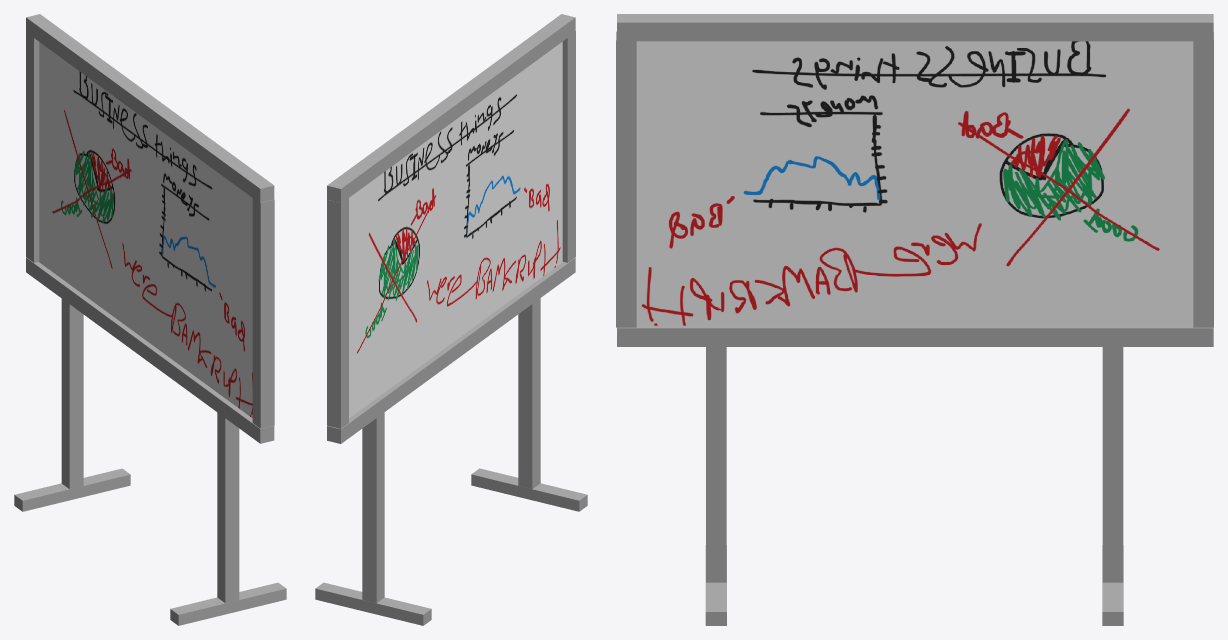
File: whiteboard.glb
The picture shows the model from 3 angles, left to right: view 1: azimuth 30°, elevation 25°; view 2: azimuth 150°, elevation 25°; view 3: azimuth 270°, elevation 25°; orthographic projection. The views are drawn at different scales.
Parts seen in each view (by area): view 1: Cube.004, Cube.007, Cube.008, Cube.005, Cube.003, Cube.002, Cube.006, Cube.001, Cube; view 2: Cube.004, Cube.007, Cube.006, Cube.005, Cube.003, Cube.002, Cube.008, Cube, Cube.001; view 3: Cube.004, Cube.007, Cube.005, Cube.006, Cube.008, Cube.003, Cube.002, Cube, Cube.001.
Part boxes in pixels (x1=…): Cube.004: x1=39, y1=42, x2=252, y2=417; Cube.007: x1=26, y1=14, x2=274, y2=202; Cube.008: x1=252, y1=198, x2=274, y2=428; Cube.005: x1=26, y1=257, x2=274, y2=443; Cube.003: x1=61, y1=299, x2=83, y2=489; Cube.002: x1=217, y1=412, x2=239, y2=603; Cube.006: x1=26, y1=31, x2=39, y2=262; Cube.001: x1=14, y1=468, x2=130, y2=511; Cube: x1=170, y1=582, x2=286, y2=625; Cube.004: x1=349, y1=42, x2=562, y2=418; Cube.007: x1=327, y1=14, x2=575, y2=202; Cube.006: x1=327, y1=197, x2=348, y2=428; Cube.005: x1=327, y1=257, x2=575, y2=443; Cube.003: x1=362, y1=412, x2=384, y2=603; Cube.002: x1=518, y1=298, x2=540, y2=489; Cube.008: x1=562, y1=31, x2=575, y2=262; Cube: x1=471, y1=468, x2=587, y2=511; Cube.001: x1=315, y1=582, x2=431, y2=625; Cube.004: x1=636, y1=41, x2=1193, y2=325; Cube.007: x1=617, y1=14, x2=1213, y2=41; Cube.005: x1=617, y1=325, x2=1213, y2=346; Cube.006: x1=1193, y1=32, x2=1213, y2=327; Cube.008: x1=616, y1=31, x2=636, y2=327; Cube.003: x1=1102, y1=347, x2=1123, y2=582; Cube.002: x1=706, y1=347, x2=726, y2=582; Cube: x1=705, y1=545, x2=726, y2=625; Cube.001: x1=1102, y1=545, x2=1123, y2=625.
Bounding box in the file's own units: 2 × 7.99 × 7.53.
9 materials, 1 textured.
